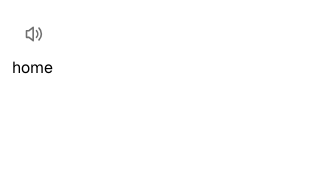
sound controls › persists mute after reload and keeps it while route content changes
Later steps or results of the test are not shown.
Click the button named "Matikan suara" at (34, 34), box [12, 12, 56, 56]
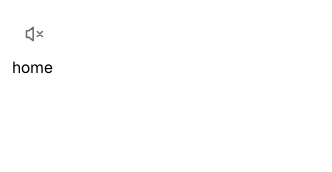
expect the button named "Nyalakan suara" is pressed: met, box [12, 12, 56, 56]
